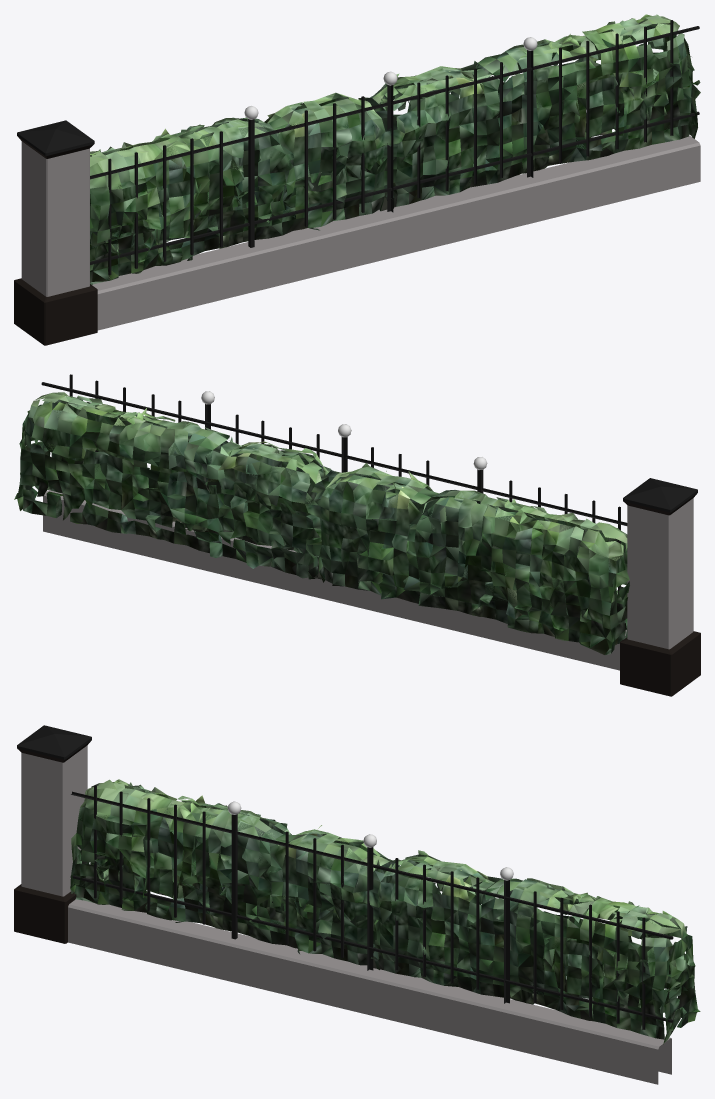
Rendered from hedge_fence_optimised.glb.
3 renders of one model, top to bottom at view 1: azimuth 30°, elevation 25°; view 2: azimuth 150°, elevation 25°; view 3: azimuth 330°, elevation 25°, orthographic. The views are drawn at different scales.
Visible parts, largest first — view 1: hedge_fence; view 2: hedge_fence; view 3: hedge_fence.
Part boxes in pixels (left/top/right/bottom): hedge_fence: left=14, top=14, right=700, bottom=345; hedge_fence: left=14, top=374, right=700, bottom=696; hedge_fence: left=14, top=725, right=700, bottom=1084.
Bounding box in the file's own units: 6.83 × 1.94 × 0.7937.
Materials: 5 (1 with a texture image).
